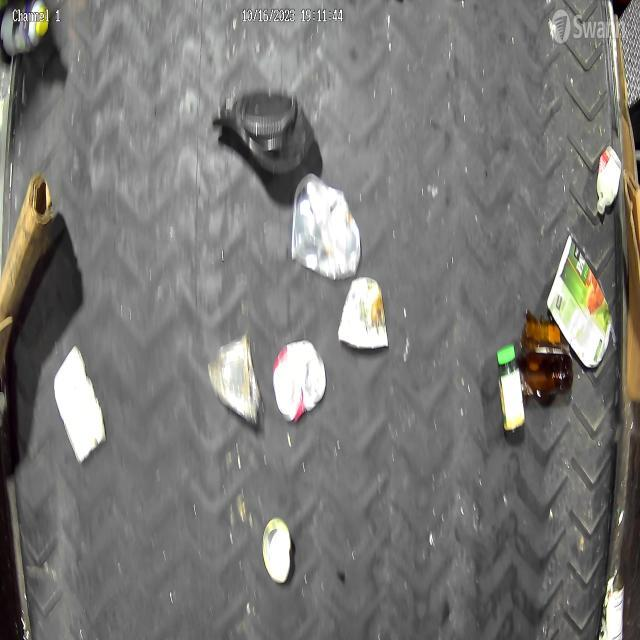can: (270, 340, 328, 420), (262, 516, 293, 586), (600, 570, 626, 640)
